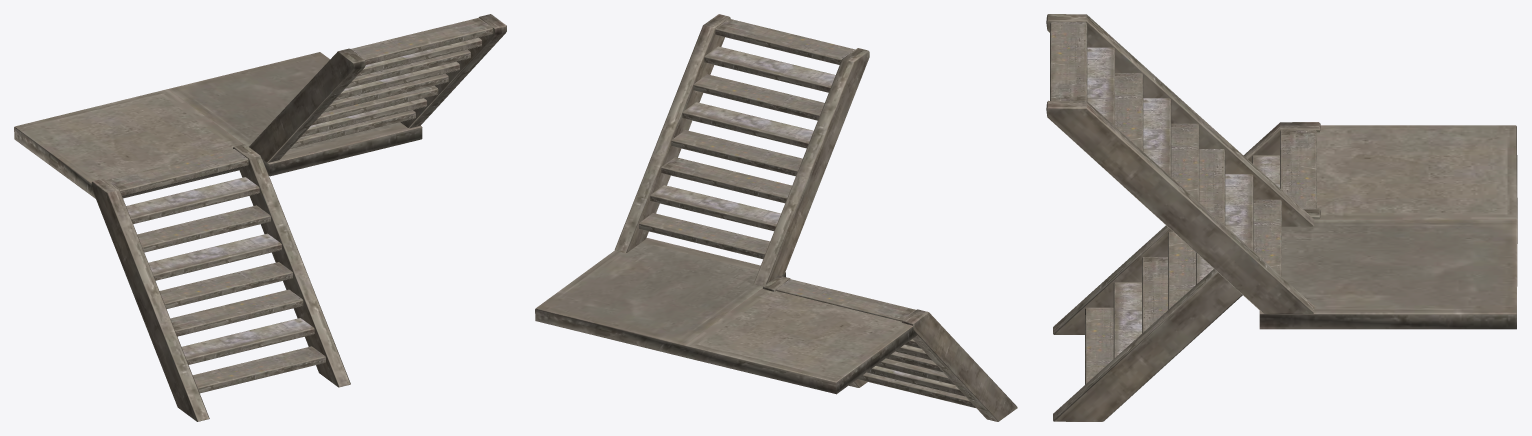
Rendered from block.stair.ushape.brutalist.glb.
The picture shows the model from 3 angles, left to right: view 1: azimuth 30°, elevation 25°; view 2: azimuth 150°, elevation 25°; view 3: azimuth 270°, elevation 25°; orthographic projection. The views are drawn at different scales.
Visible parts, largest first — view 1: model (×3); view 2: model (×3); view 3: model (×3).
Boxes of the visible parts, x1=… form: model (×3): x1=14, y1=14, x2=506, y2=421; model (×3): x1=535, y1=14, x2=1017, y2=421; model (×3): x1=1046, y1=14, x2=1517, y2=421.
Bounding box in the file's own units: 3.01 × 3.03 × 3.17.
Materials: 1 (1 with a texture image).
